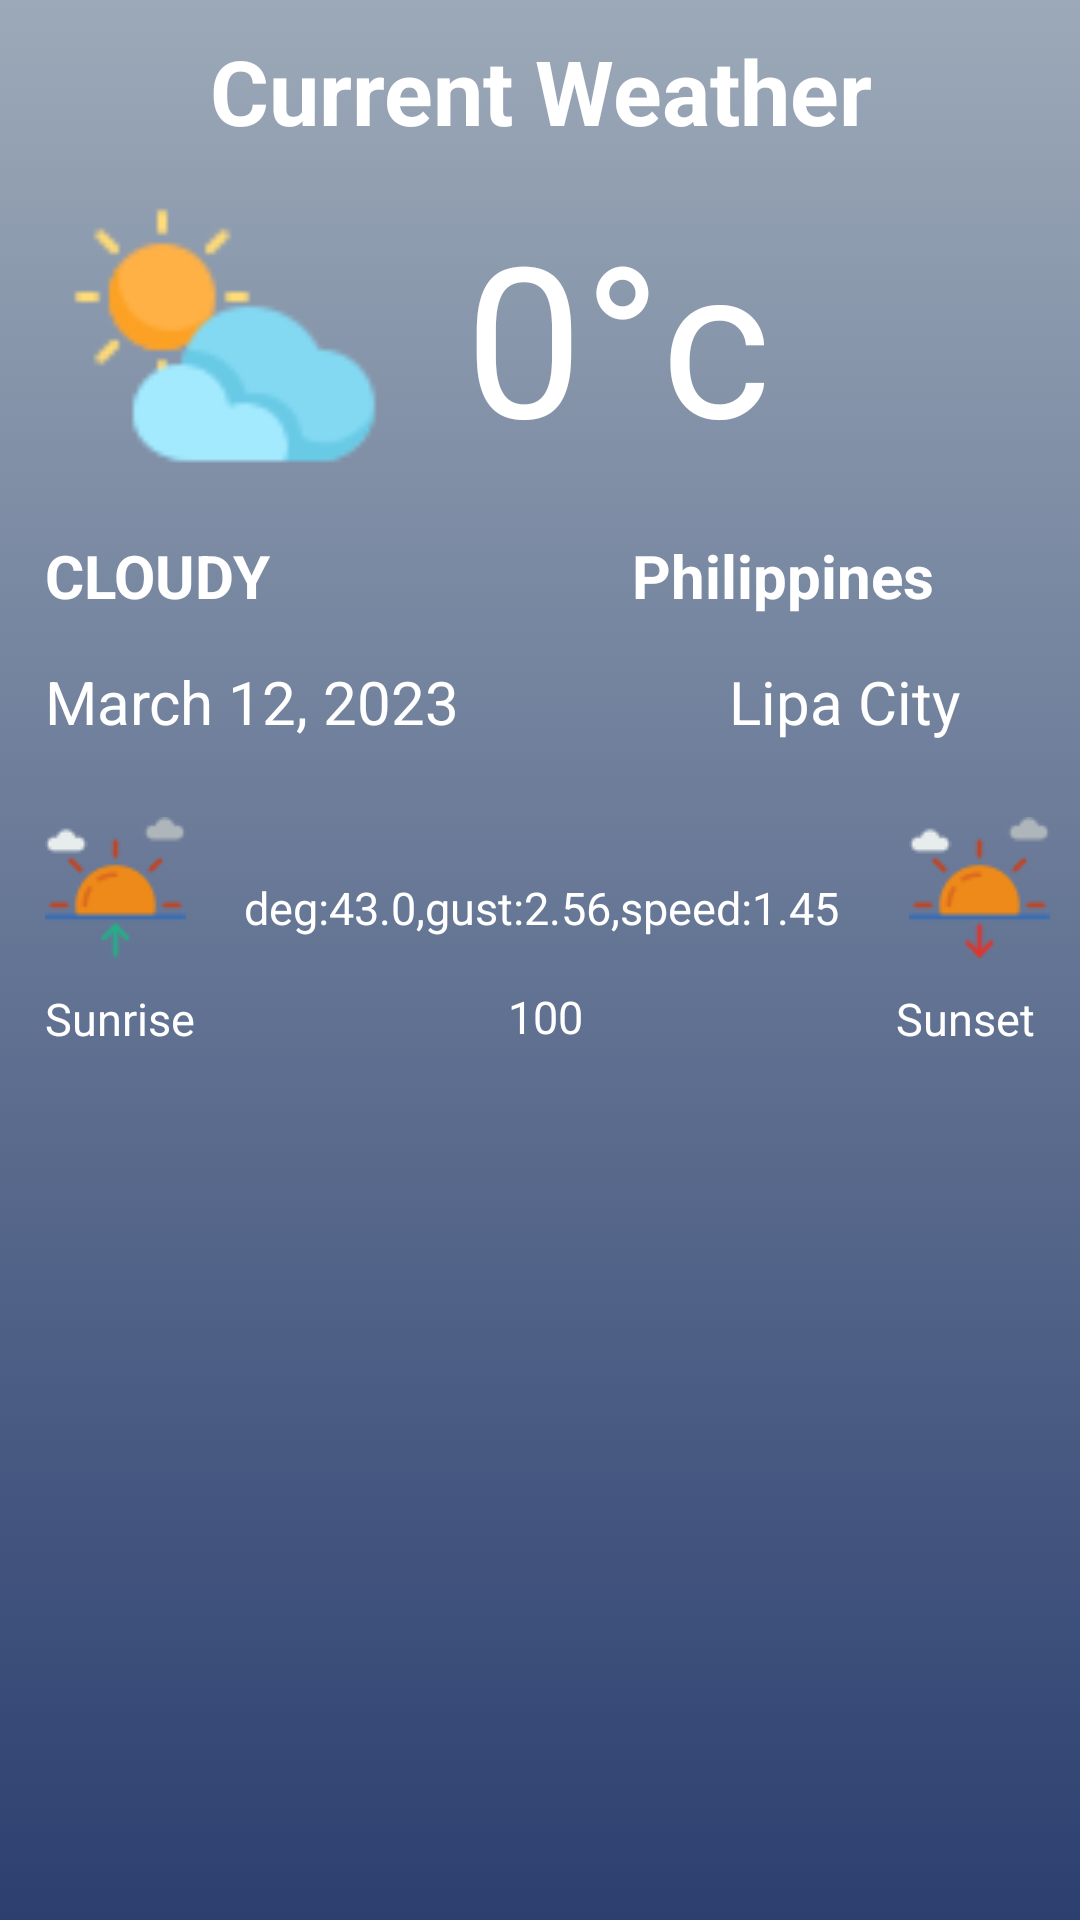

Icons on this 1080px x 1920px Android screen, each with the point to tap as (x,y):
cloud sun: (225,335)
